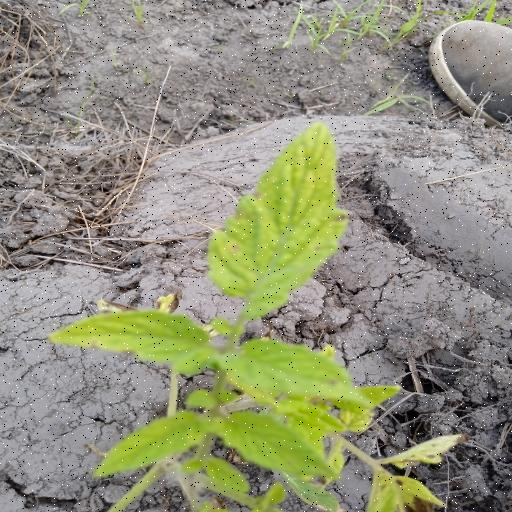Tomato_Brown_Spots: (206, 108, 353, 314)
